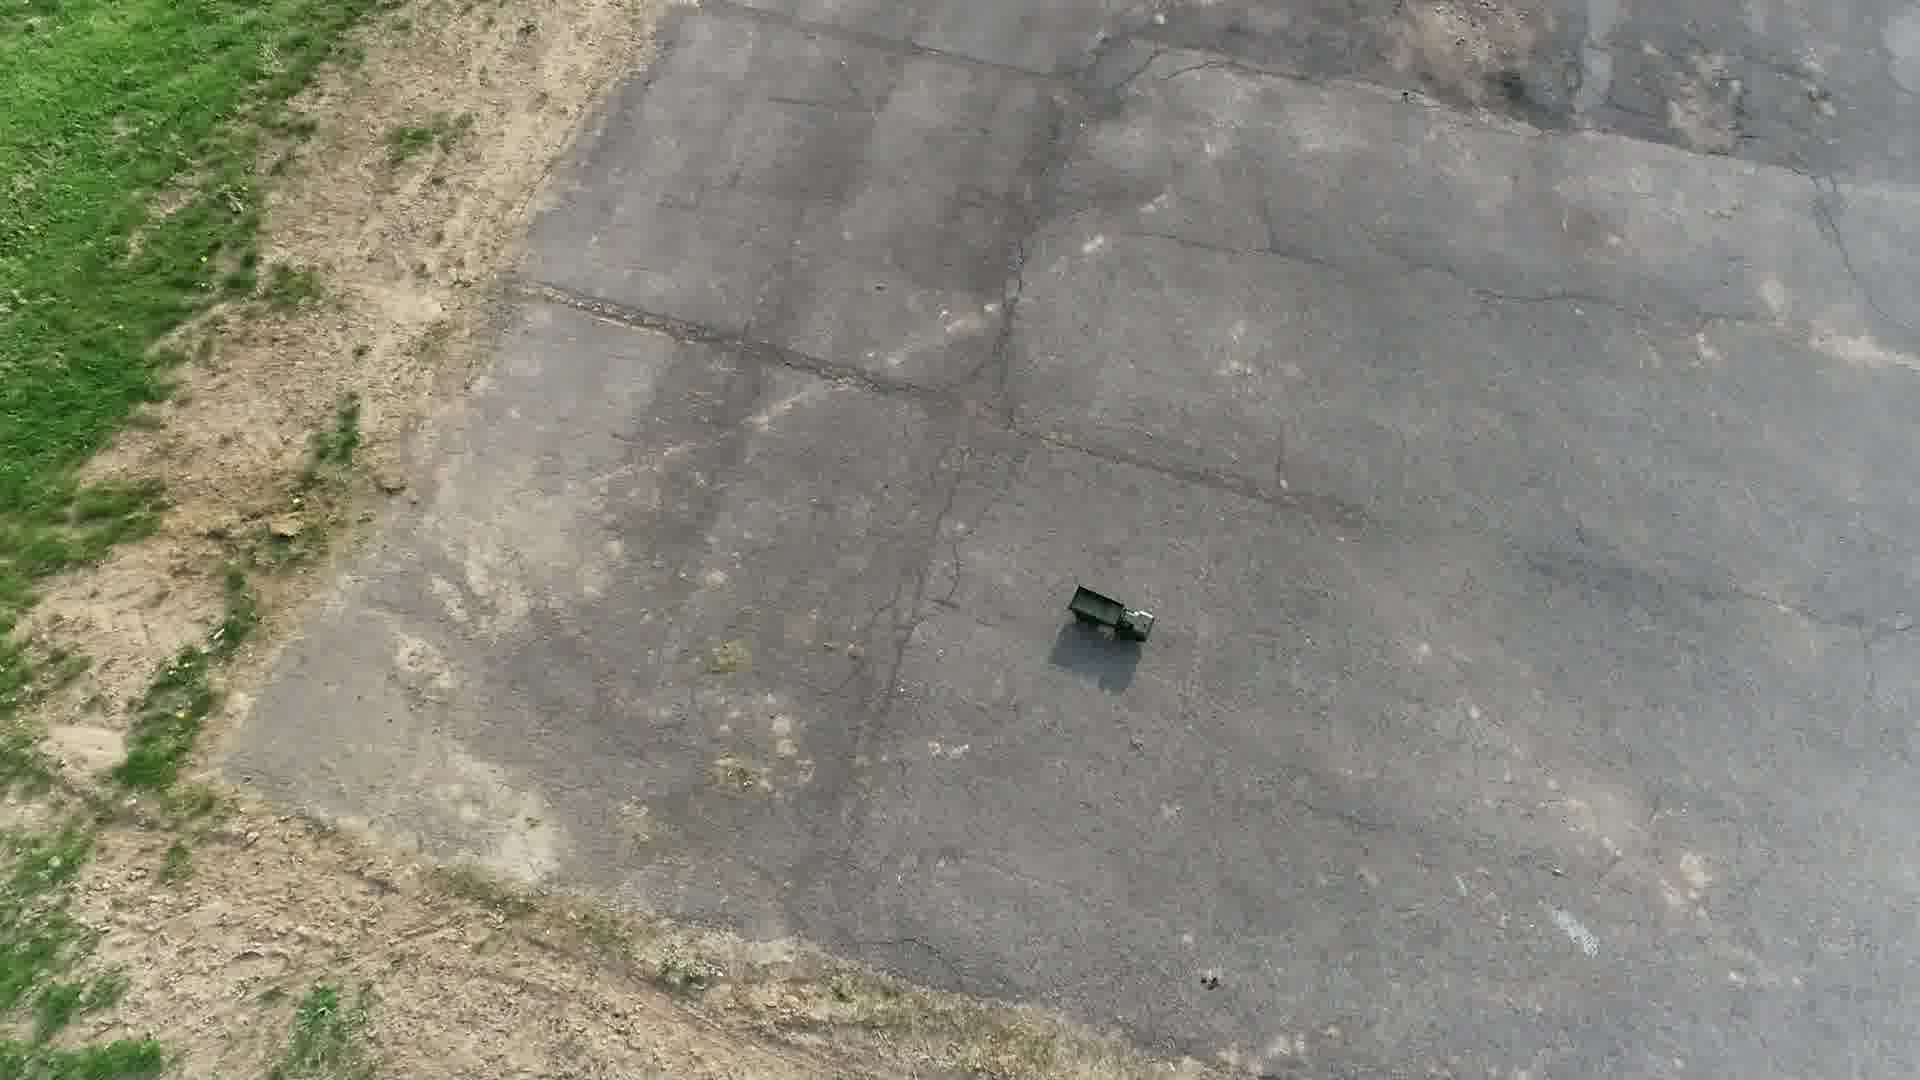transporter9: (1065, 582, 1159, 651)
